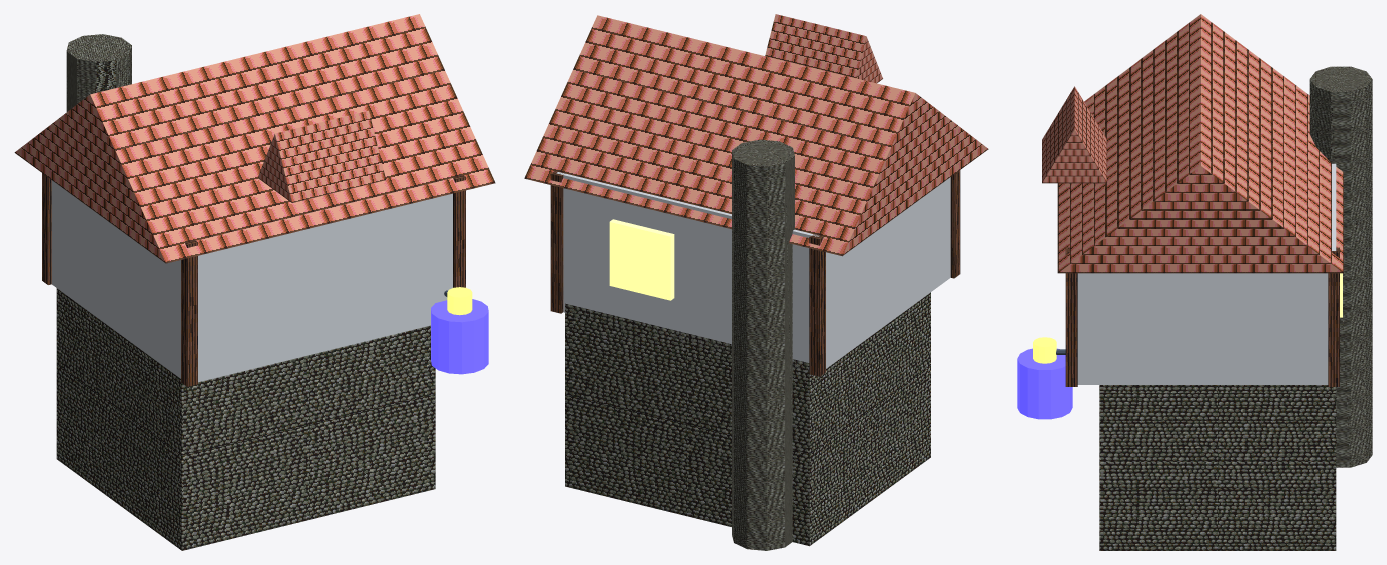
The model's file is taller_taa.glb.
3 views of the same model, side by side, from view 1: azimuth 30°, elevation 25°; view 2: azimuth 150°, elevation 25°; view 3: azimuth 270°, elevation 25° (orthographic). The views are drawn at different scales.
Parts seen in each view (by area): view 1: Cube, Taller_Techo, Cube.001, Taller_Buhardilla, Cylinder.003, Cylinder.001, Cube.002, Cube.004, Cube.003, Cylinder.002; view 2: Taller_Techo, Cube, Cube.001, Cylinder.003, Taller_Buhardilla, Cube.006, Cube.003, Cube.005, Cube.002; view 3: Taller_Techo, Cube, Cube.001, Cylinder.003, Taller_Buhardilla, Cylinder.001, Cube.004, Cube.005, Cylinder.002.
Part boxes in pixels (x1,y1,x2,y2): Cube: (56,288,435,550); Taller_Techo: (14,14,495,263); Cube.001: (51,178,452,382); Taller_Buhardilla: (258,110,385,202); Cylinder.003: (66,34,131,111); Cylinder.001: (431,299,488,374); Cube.002: (181,241,197,386); Cube.004: (453,175,465,287); Cube.003: (42,173,51,284); Cylinder.002: (447,287,472,315); Taller_Techo: (524,15,988,256); Cube: (565,292,930,546); Cube.001: (556,172,950,368); Cylinder.003: (732,139,794,550); Taller_Buhardilla: (765,14,882,83); Cube.006: (609,219,674,300); Cube.003: (809,234,825,376); Cube.005: (550,171,564,313); Cube.002: (950,170,960,278); Taller_Techo: (1057,14,1343,273); Cube: (1099,385,1336,550); Cube.001: (1077,163,1336,384); Cylinder.003: (1309,66,1372,467); Taller_Buhardilla: (1042,86,1106,183); Cylinder.001: (1017,348,1072,419); Cube.004: (1065,247,1077,386); Cube.005: (1328,247,1339,386); Cylinder.002: (1033,337,1056,363).
Size of the model in its own units: 3.64 by 4.5 by 3.6.
8 materials, 3 textured.
